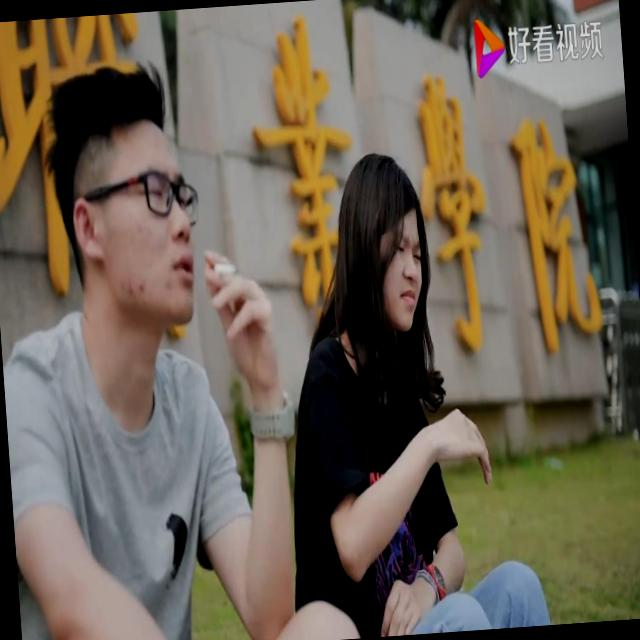cigarette: (202, 252, 247, 288)
